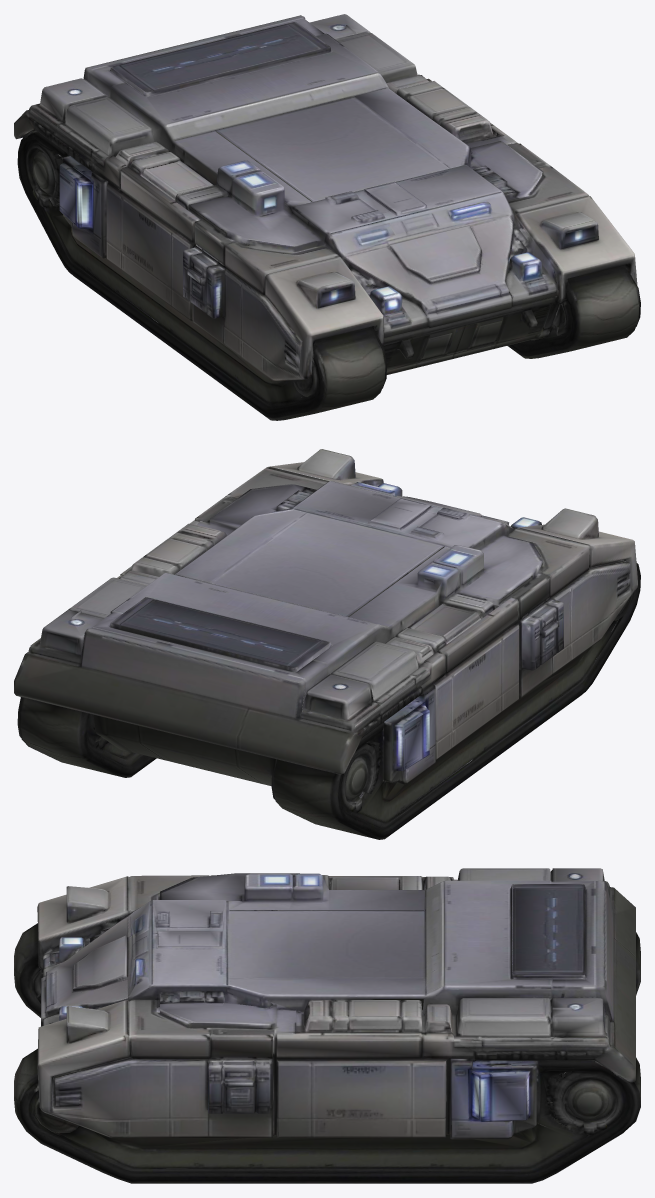
File: selected.fbx
3 renders of one model, top to bottom at view 1: azimuth 30°, elevation 25°; view 2: azimuth 150°, elevation 25°; view 3: azimuth 270°, elevation 25°, orthographic.
Visible parts, largest first — view 1: TankHullv2; view 2: TankHullv2; view 3: TankHullv2.
Part boxes in pixels (left/top/right/bottom): TankHullv2: left=14, top=14, right=640, bottom=420; TankHullv2: left=14, top=449, right=640, bottom=839; TankHullv2: left=14, top=868, right=640, bottom=1183.
Size of the model in its own units: 66.73 by 31.12 by 100.
Materials: 1 (1 with a texture image).
